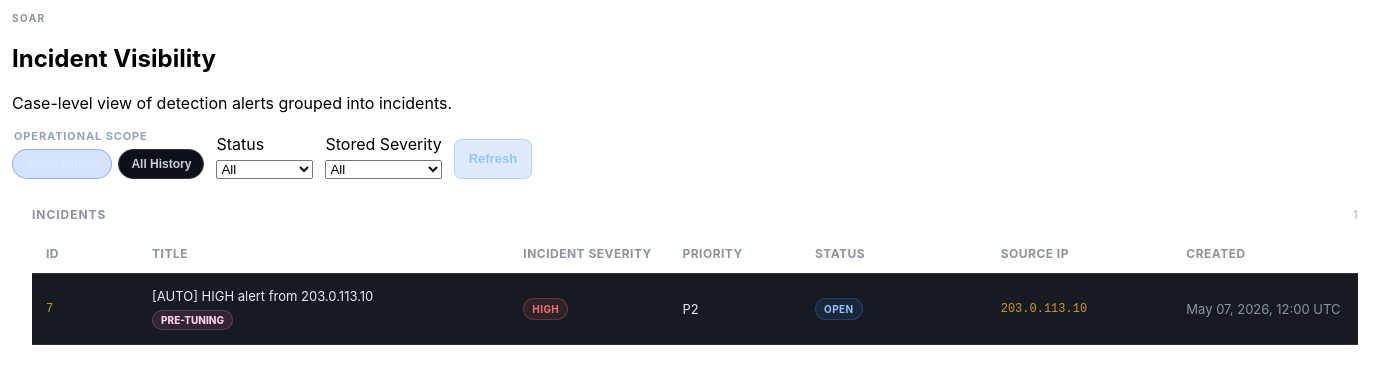
Scenario: IncidentsPanel › shows detail loading state
Step 1. Click the text "[AUTO] HIGH alert from 203.0.113.10" → [263, 296], box [152,288,373,304]
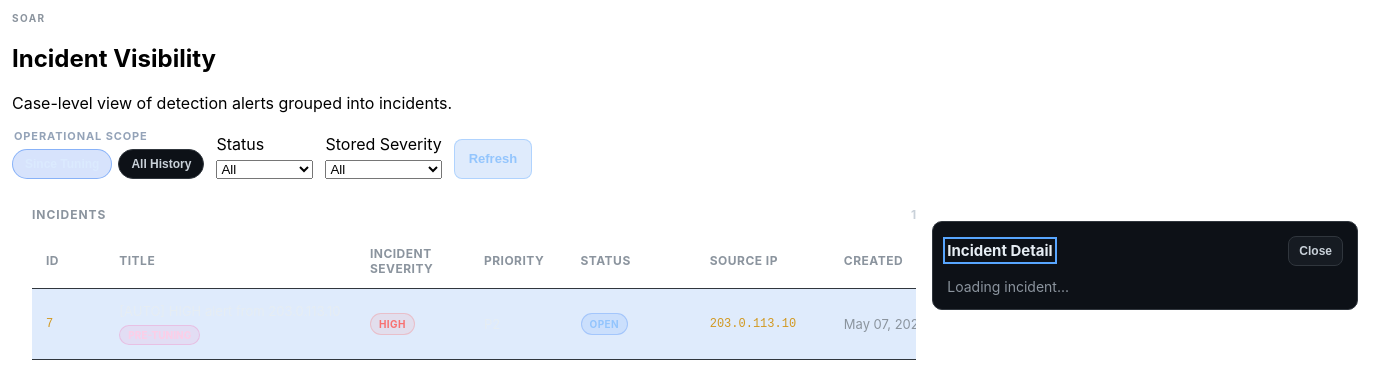
Check: the text "Loading incident..." is shown, box [947,278,1069,295]
